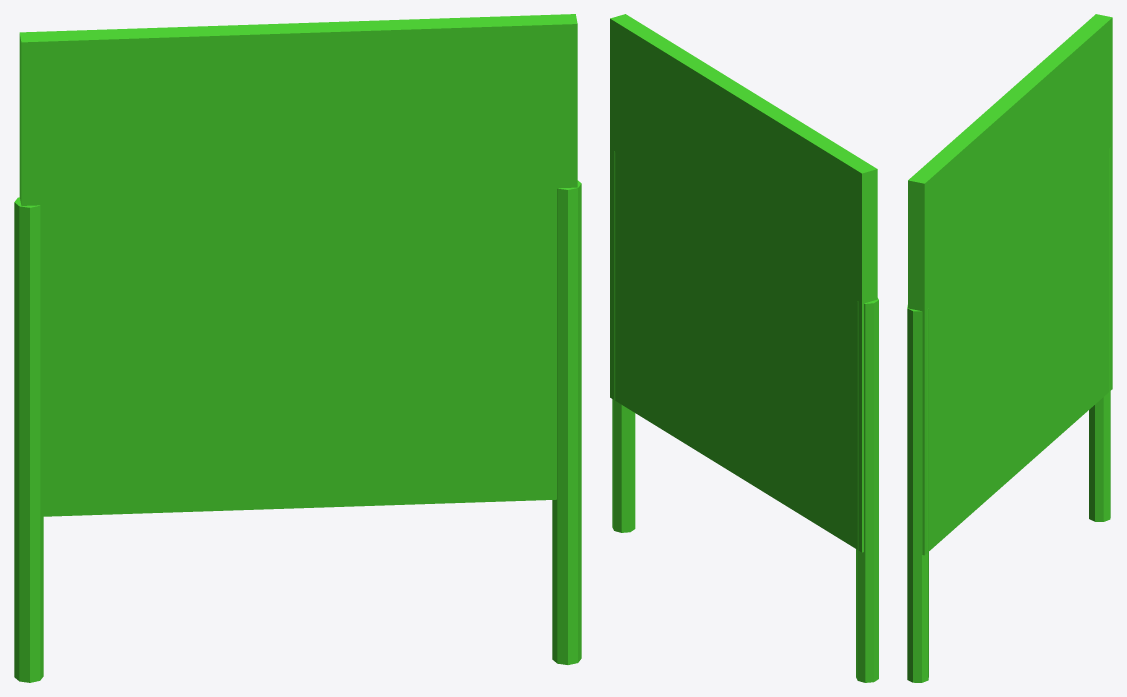
The model's file is cylinder.002_lev1_lev2.glb.
3 renders of one model, left to right at view 1: azimuth 30°, elevation 25°; view 2: azimuth 150°, elevation 25°; view 3: azimuth 270°, elevation 25°, orthographic. The views are drawn at different scales.
Parts seen in each view (by area): view 1: cylinder.002_lev1_lev2; view 2: cylinder.002_lev1_lev2; view 3: cylinder.002_lev1_lev2.
Part boxes in pixels (x1,y1,x2,y2): cylinder.002_lev1_lev2: (14,14,581,682); cylinder.002_lev1_lev2: (610,14,878,682); cylinder.002_lev1_lev2: (907,14,1112,682).
Size of the model in its own units: 3.61 by 4.93 by 1.84.
